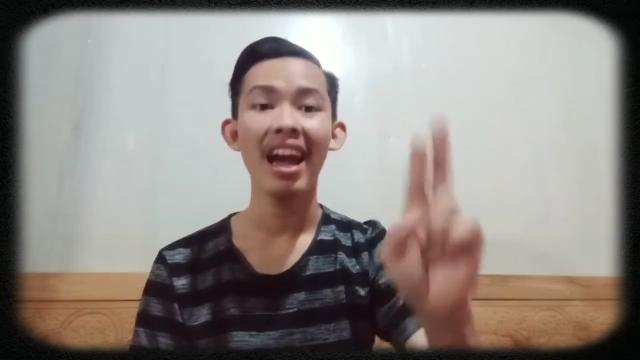U: (380, 123, 490, 314)
